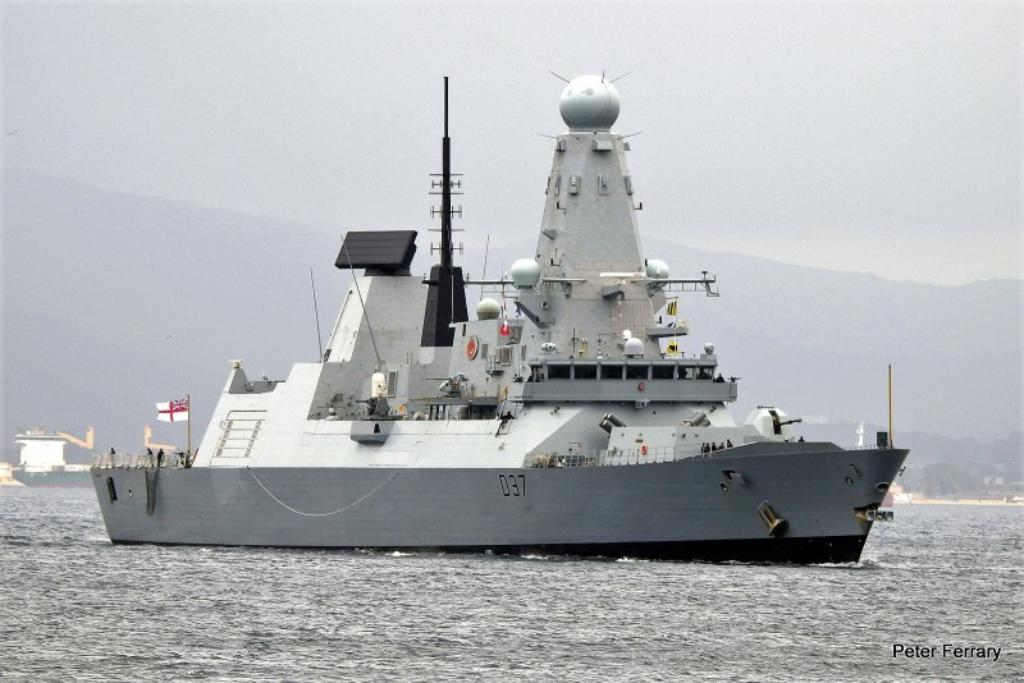Warship: (84, 64, 918, 566)
